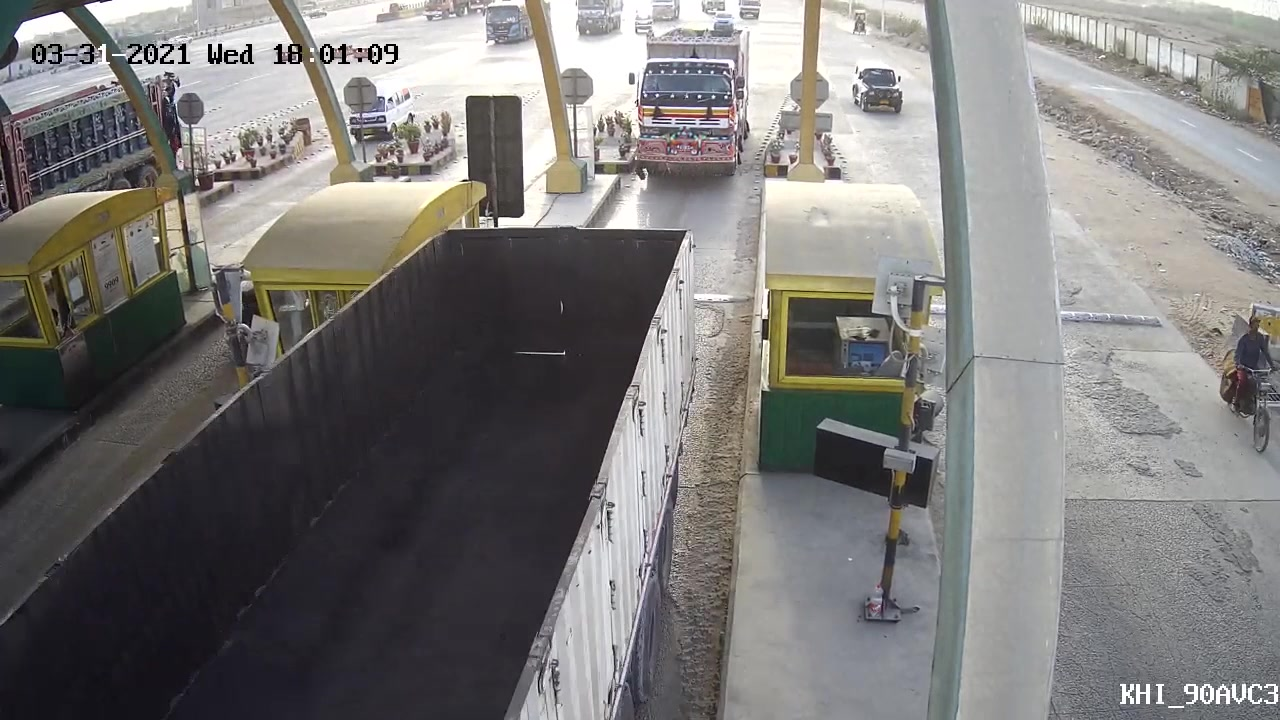F5: (615, 30, 754, 186)
